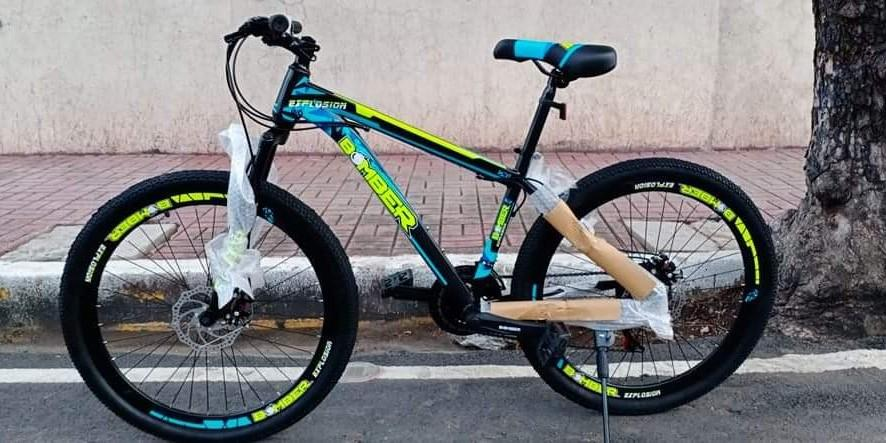bike: (59, 13, 777, 440)
tree: (782, 1, 886, 333)
